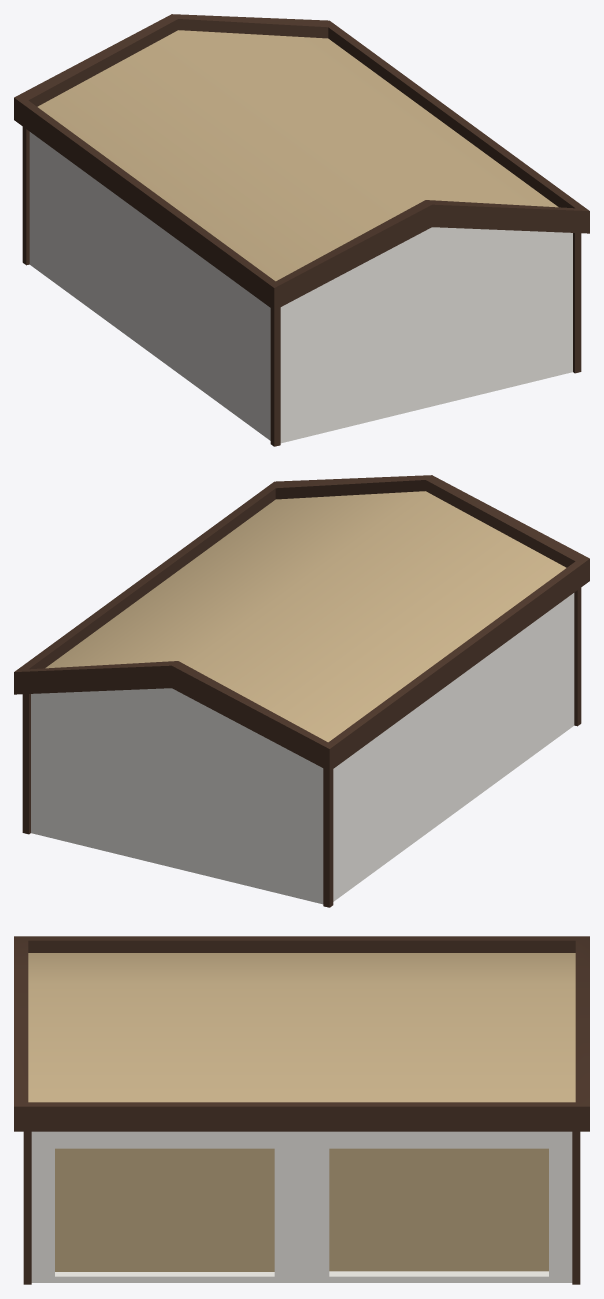
File: warehouse1.gltf
The picture shows the model from 3 angles, top to bottom: view 1: azimuth 30°, elevation 25°; view 2: azimuth 150°, elevation 25°; view 3: azimuth 270°, elevation 25°; orthographic projection. The views are drawn at different scales.
Visible parts, largest first — view 1: Cube.005; view 2: Cube.005; view 3: Cube.005.
Boxes of the visible parts, box(x1,y1,x2,y2) form: Cube.005: box(14, 14, 589, 446); Cube.005: box(14, 475, 589, 907); Cube.005: box(14, 936, 589, 1284).
Size of the model in its own units: 14.7 by 9.25 by 21.
Materials: 1 (1 with a texture image).
